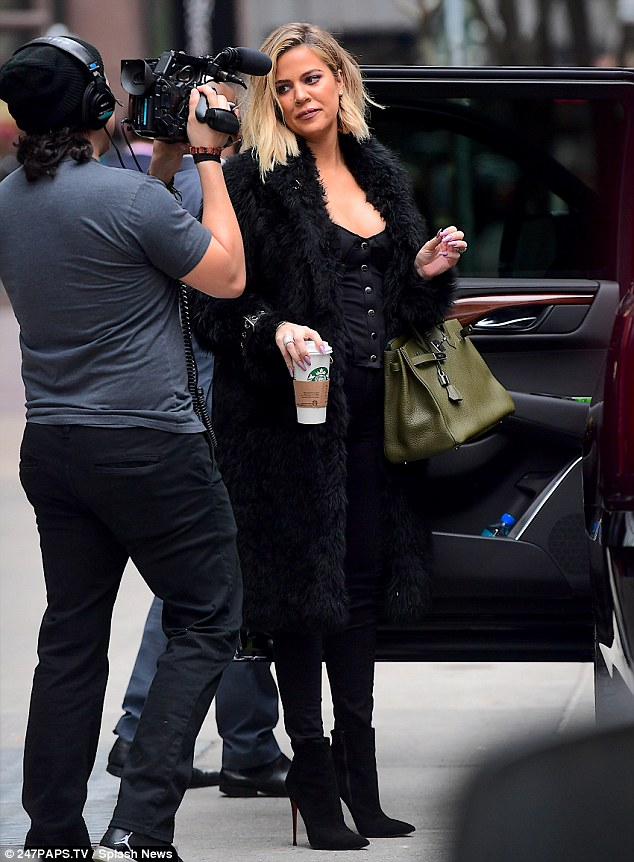Person: (13, 43, 236, 862), (252, 9, 461, 859)
